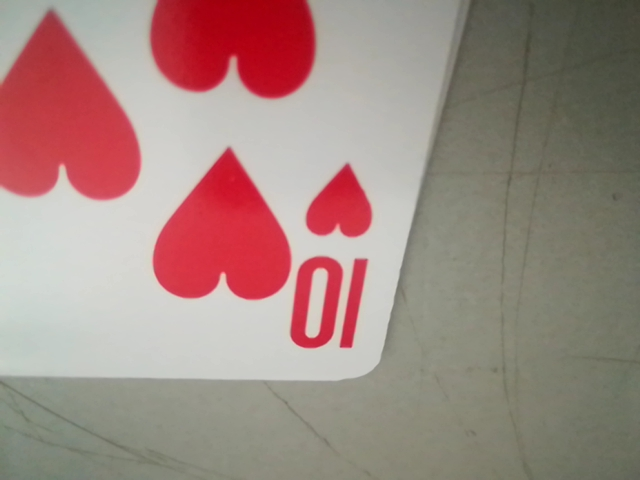hx 10: (287, 162, 381, 357)
